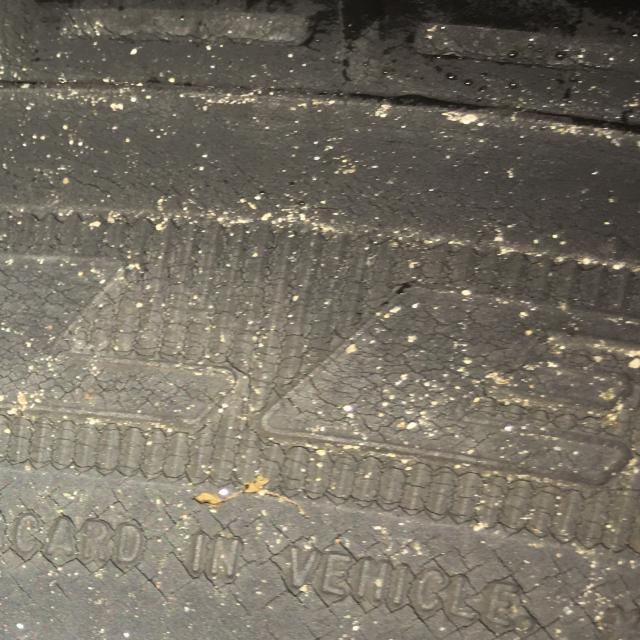Cracks: (0, 95, 640, 640)
